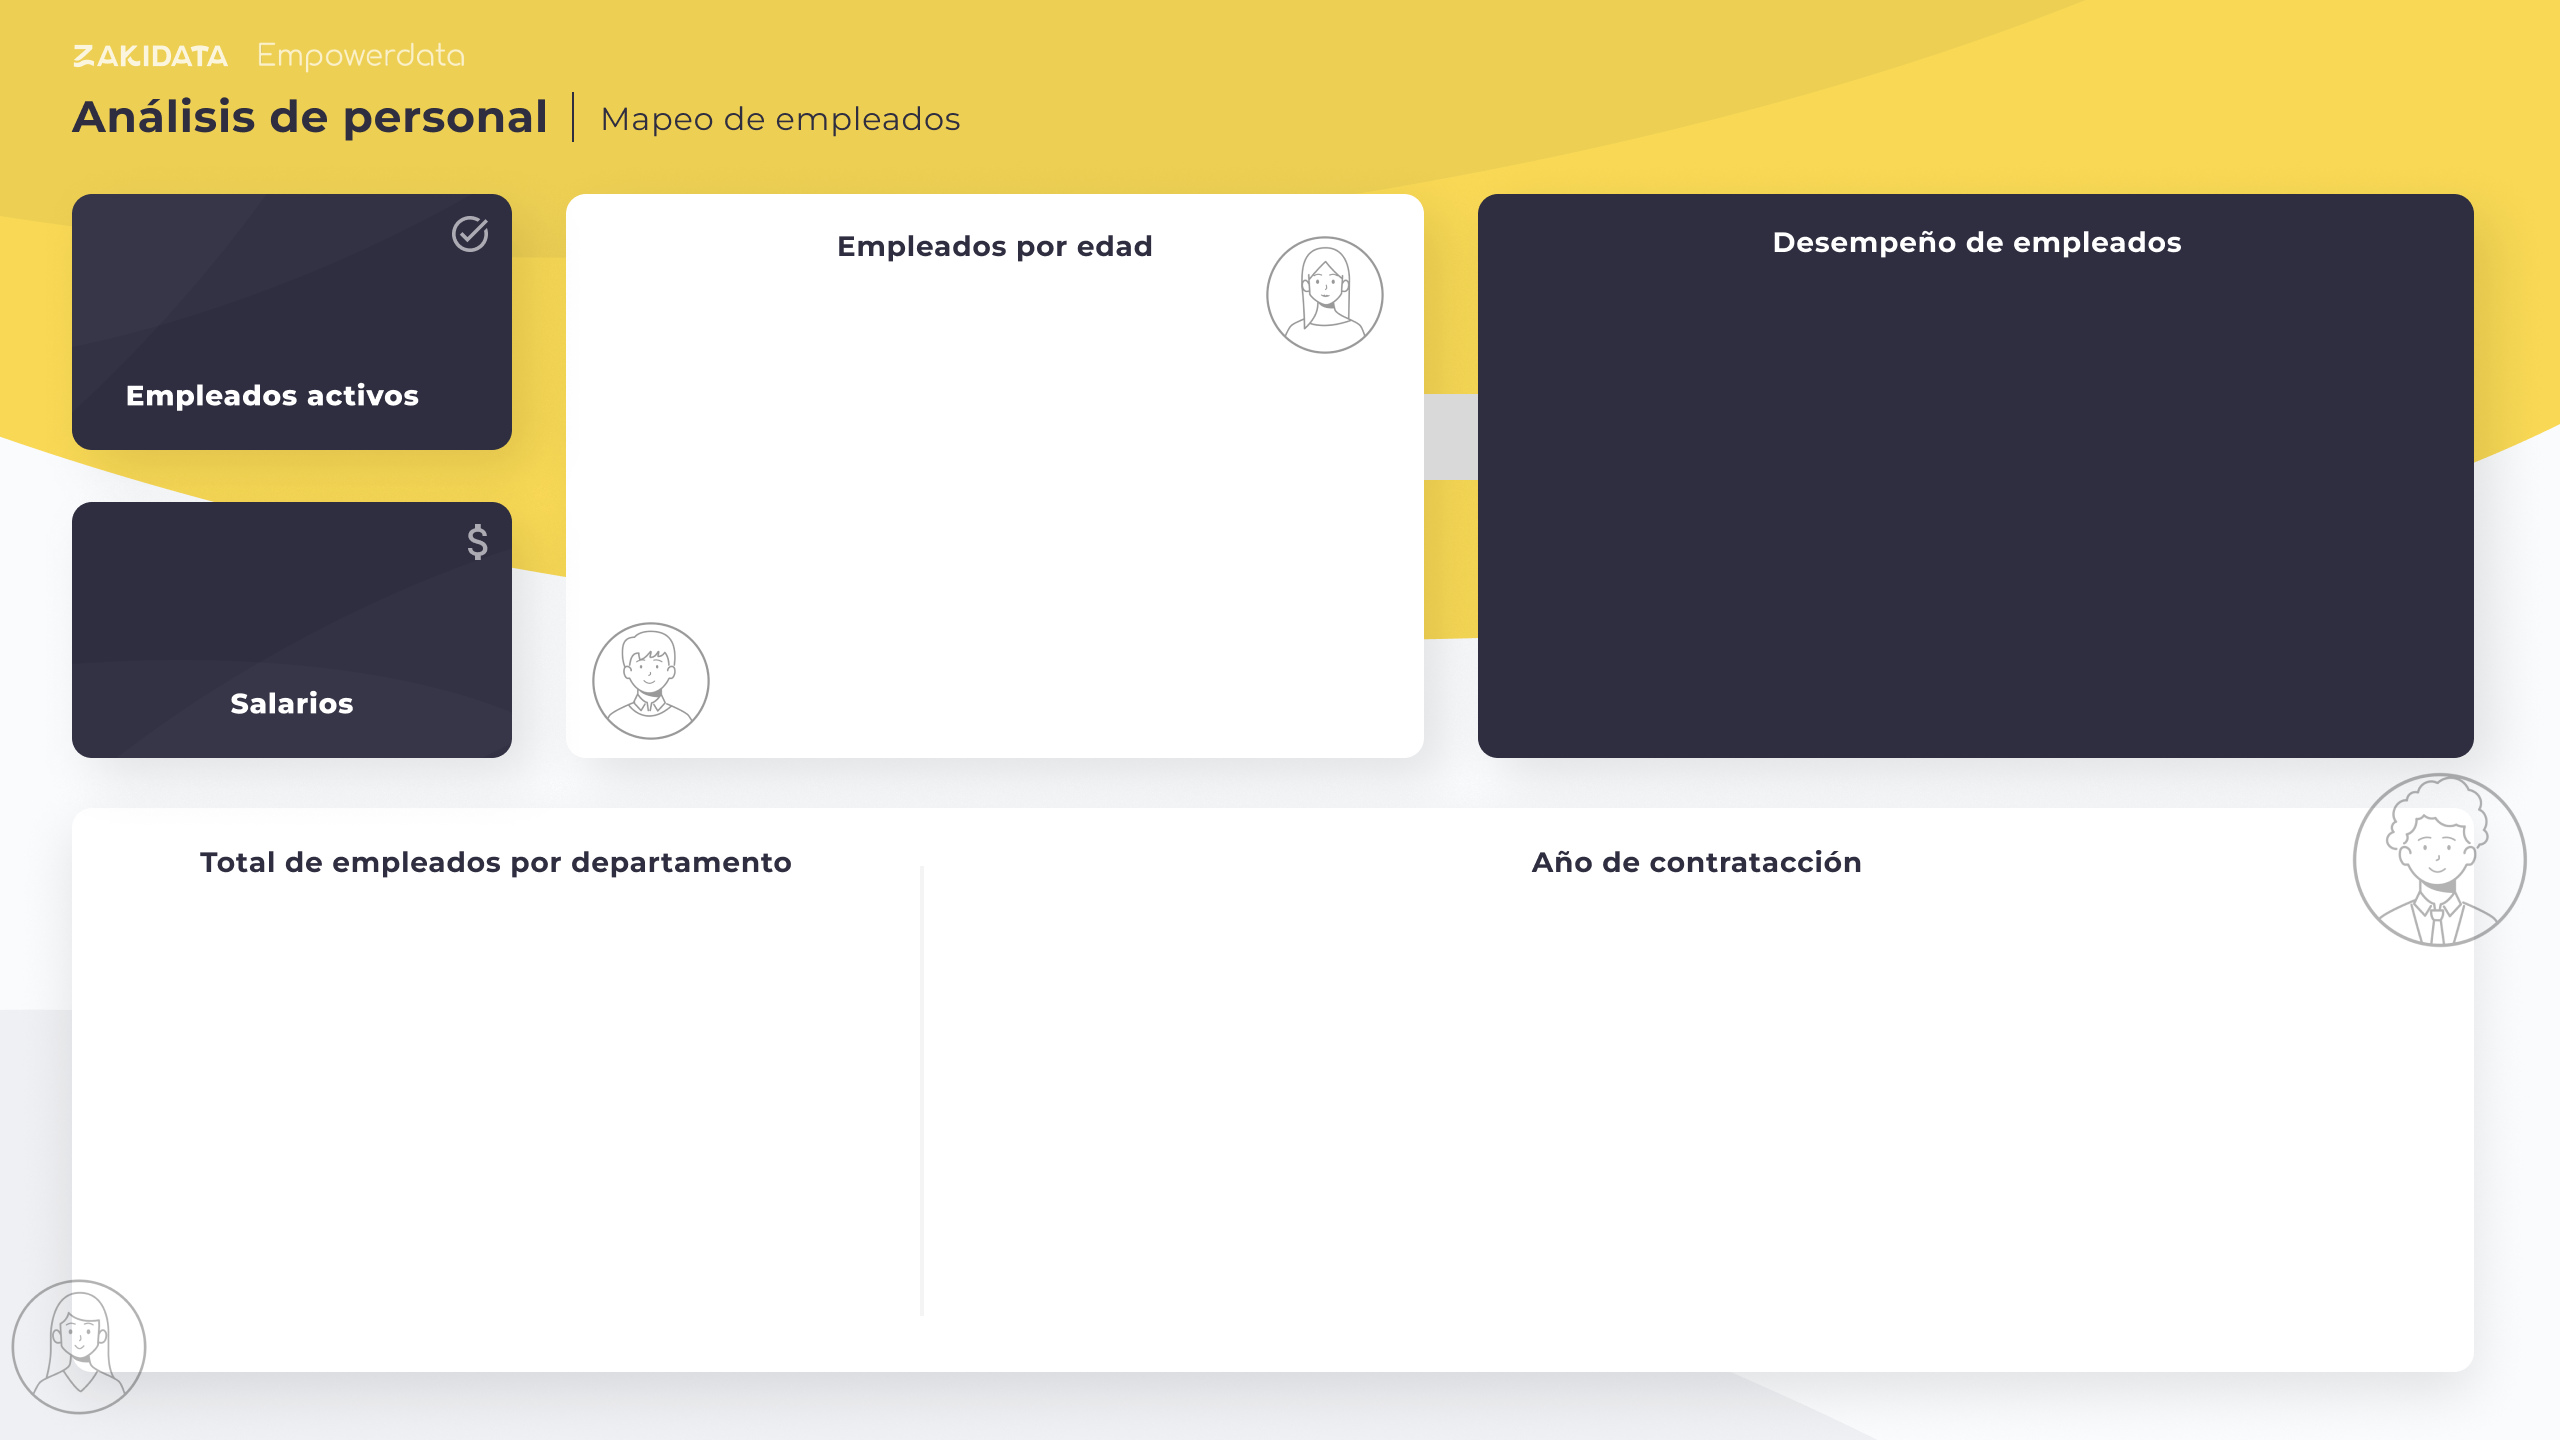

The page's visual inventory and layout, read from the dashboard file:
{"tool":"powerbi","page":{"name":"Página 1","canvas":[1280,720],"ordinal":0},"visuals":[{"type":"card","fields":{"Values":["Colaboladores.Total_Personal"]},"box":[97.5,116.2,105,67.5],"z":0},{"type":"card","fields":{"Values":["Colaboladores.Salarios"]},"box":[28.8,262.5,242.5,87.5],"z":1000},{"type":"tableEx","fields":{"Values":["departamentos.Departamento","Colaboladores.ID","Avg(Colaboladores.Salario)","departamentos.Gerente"]},"box":[65,455,412.5,150],"z":2000},{"type":"columnChart","fields":{"Category":["Colaboladores.Fecha de contratación.Variación.Jerarquía de fechas.Año"],"Y":["CountNonNull(Colaboladores.ID)"]},"box":[477.5,427.5,742.5,227.5],"z":3000},{"type":"columnChart","fields":{"Category":["Colaboladores.Registro de desempeño"],"Y":["CountNonNull(Colaboladores.ID)"]},"box":[755,140,465,232.5],"z":4000},{"type":"funnel","fields":{"Y":["CountNonNull(Colaboladores.ID)"],"Category":["Colaboladores.Rango Edad"]},"box":[328.8,140,323.8,241.2],"z":4001},{"type":"slicer","fields":{"Values":["departamentos.Departamento"]},"box":[662.5,8.8,576.2,66.2],"z":4002}]}

Visuals, with their boxes in screenshot pixels (x1, y1, x2, y2), scaled from the page's 1280x720 canvas onto the 2560x1440 screenshot:
card - Colaboladores.Total_Personal: (left=195, top=232, right=405, bottom=367)
card - Colaboladores.Salarios: (left=58, top=525, right=543, bottom=700)
tableEx - departamentos.Departamento x Colaboladores.ID: (left=130, top=910, right=955, bottom=1210)
columnChart - Colaboladores.Fecha de contratación.Variación.Jerarquía de fechas.Año x CountNonNull(Colaboladores.ID): (left=955, top=855, right=2440, bottom=1310)
columnChart - Colaboladores.Registro de desempeño x CountNonNull(Colaboladores.ID): (left=1510, top=280, right=2440, bottom=745)
funnel - CountNonNull(Colaboladores.ID) x Colaboladores.Rango Edad: (left=658, top=280, right=1305, bottom=762)
slicer - departamentos.Departamento: (left=1325, top=18, right=2477, bottom=150)
